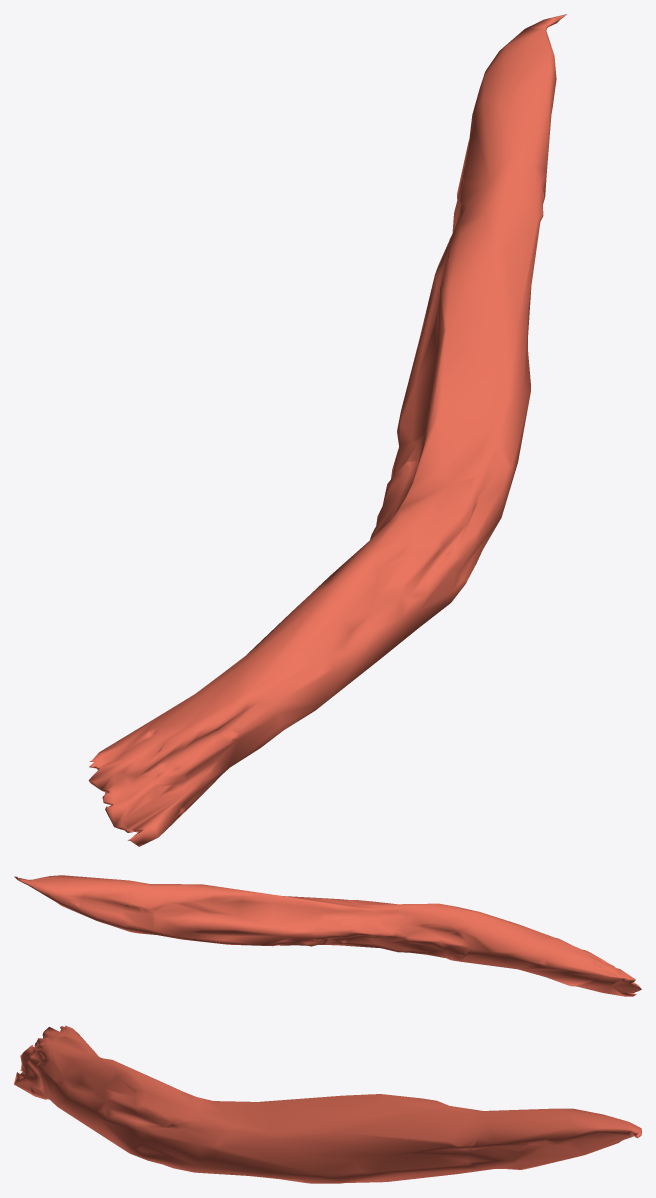
The model's file is subclavius.glb.
3 renders of one model, top to bottom at view 1: azimuth 30°, elevation 25°; view 2: azimuth 150°, elevation 25°; view 3: azimuth 270°, elevation 25°, orthographic. The views are drawn at different scales.
Visible parts, largest first — view 1: Subclavius muscle.l; view 2: Subclavius muscle.l; view 3: Subclavius muscle.l.
Boxes of the visible parts, left/top/right/bottom form: Subclavius muscle.l: left=88, top=14, right=566, bottom=846; Subclavius muscle.l: left=14, top=875, right=641, bottom=996; Subclavius muscle.l: left=14, top=1025, right=641, bottom=1183.
Size of the model in its own units: 0.0749 by 0.0278 by 0.0615.
